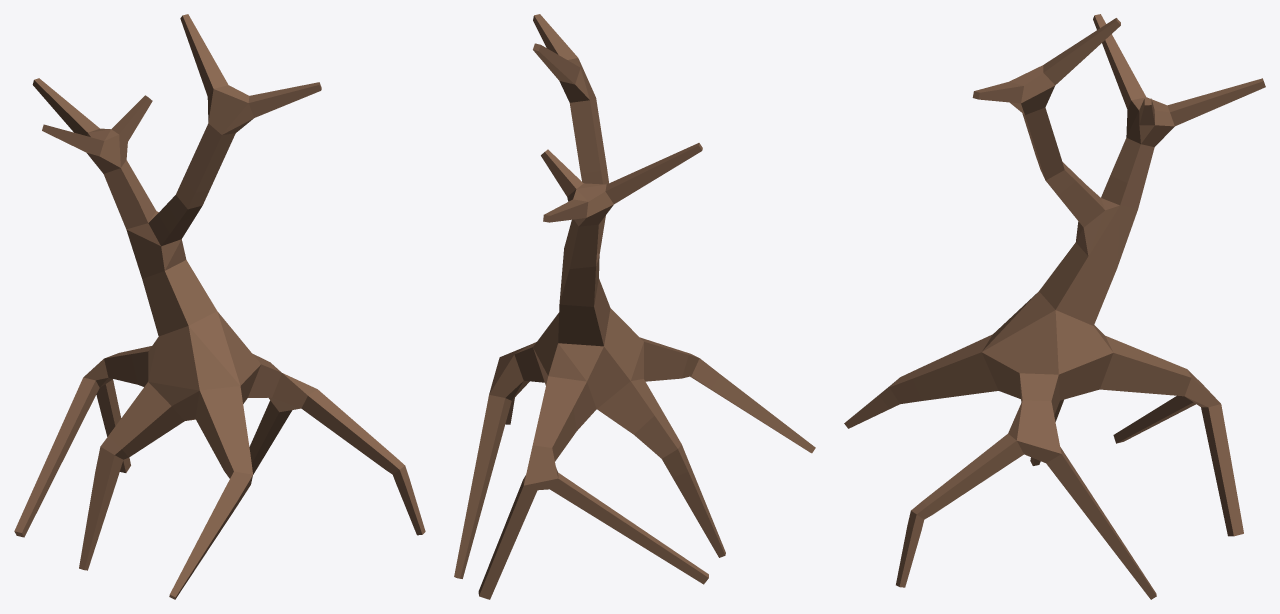
File: Manglar Sec.fbx
The picture shows the model from 3 angles, left to right: view 1: azimuth 30°, elevation 25°; view 2: azimuth 150°, elevation 25°; view 3: azimuth 270°, elevation 25°; orthographic projection. The views are drawn at different scales.
Visible parts, largest first — view 1: Cube.063; view 2: Cube.063; view 3: Cube.063.
Boxes of the visible parts, x1,y1,x2,y2 form: Cube.063: (14, 14, 425, 599); Cube.063: (454, 14, 815, 599); Cube.063: (844, 14, 1265, 599).
Size of the model in its own units: 1.48 by 2.43 by 1.69.
